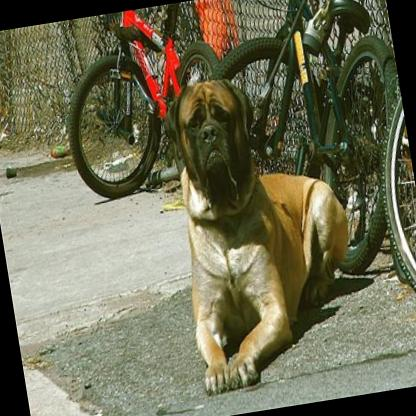bull_mastiff: (157, 60, 374, 394)
